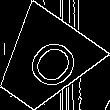O_SW: (10, 29, 78, 96)
